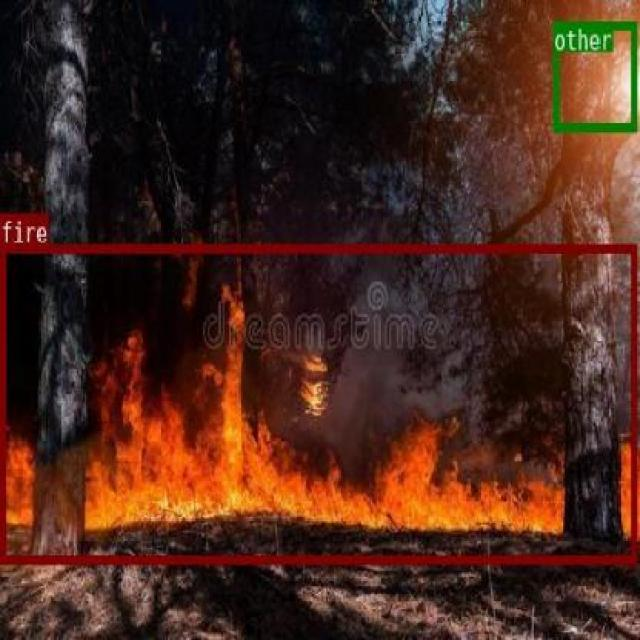Fire: (0, 241, 635, 563)
